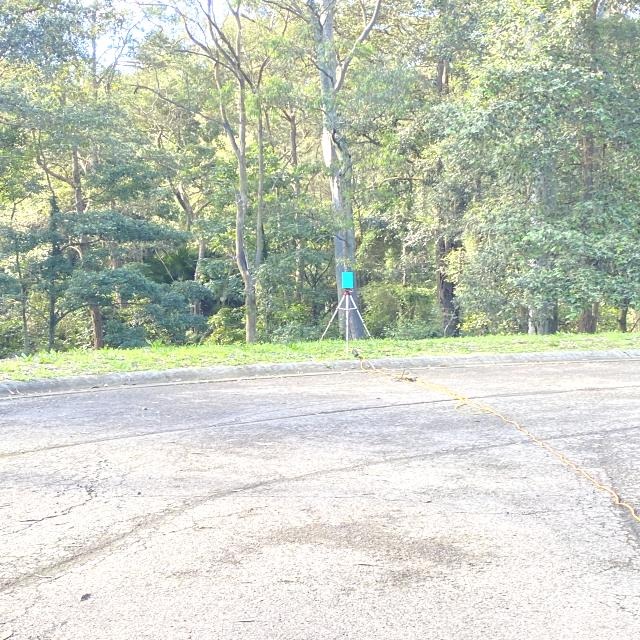matrix: (340, 271, 355, 289)
